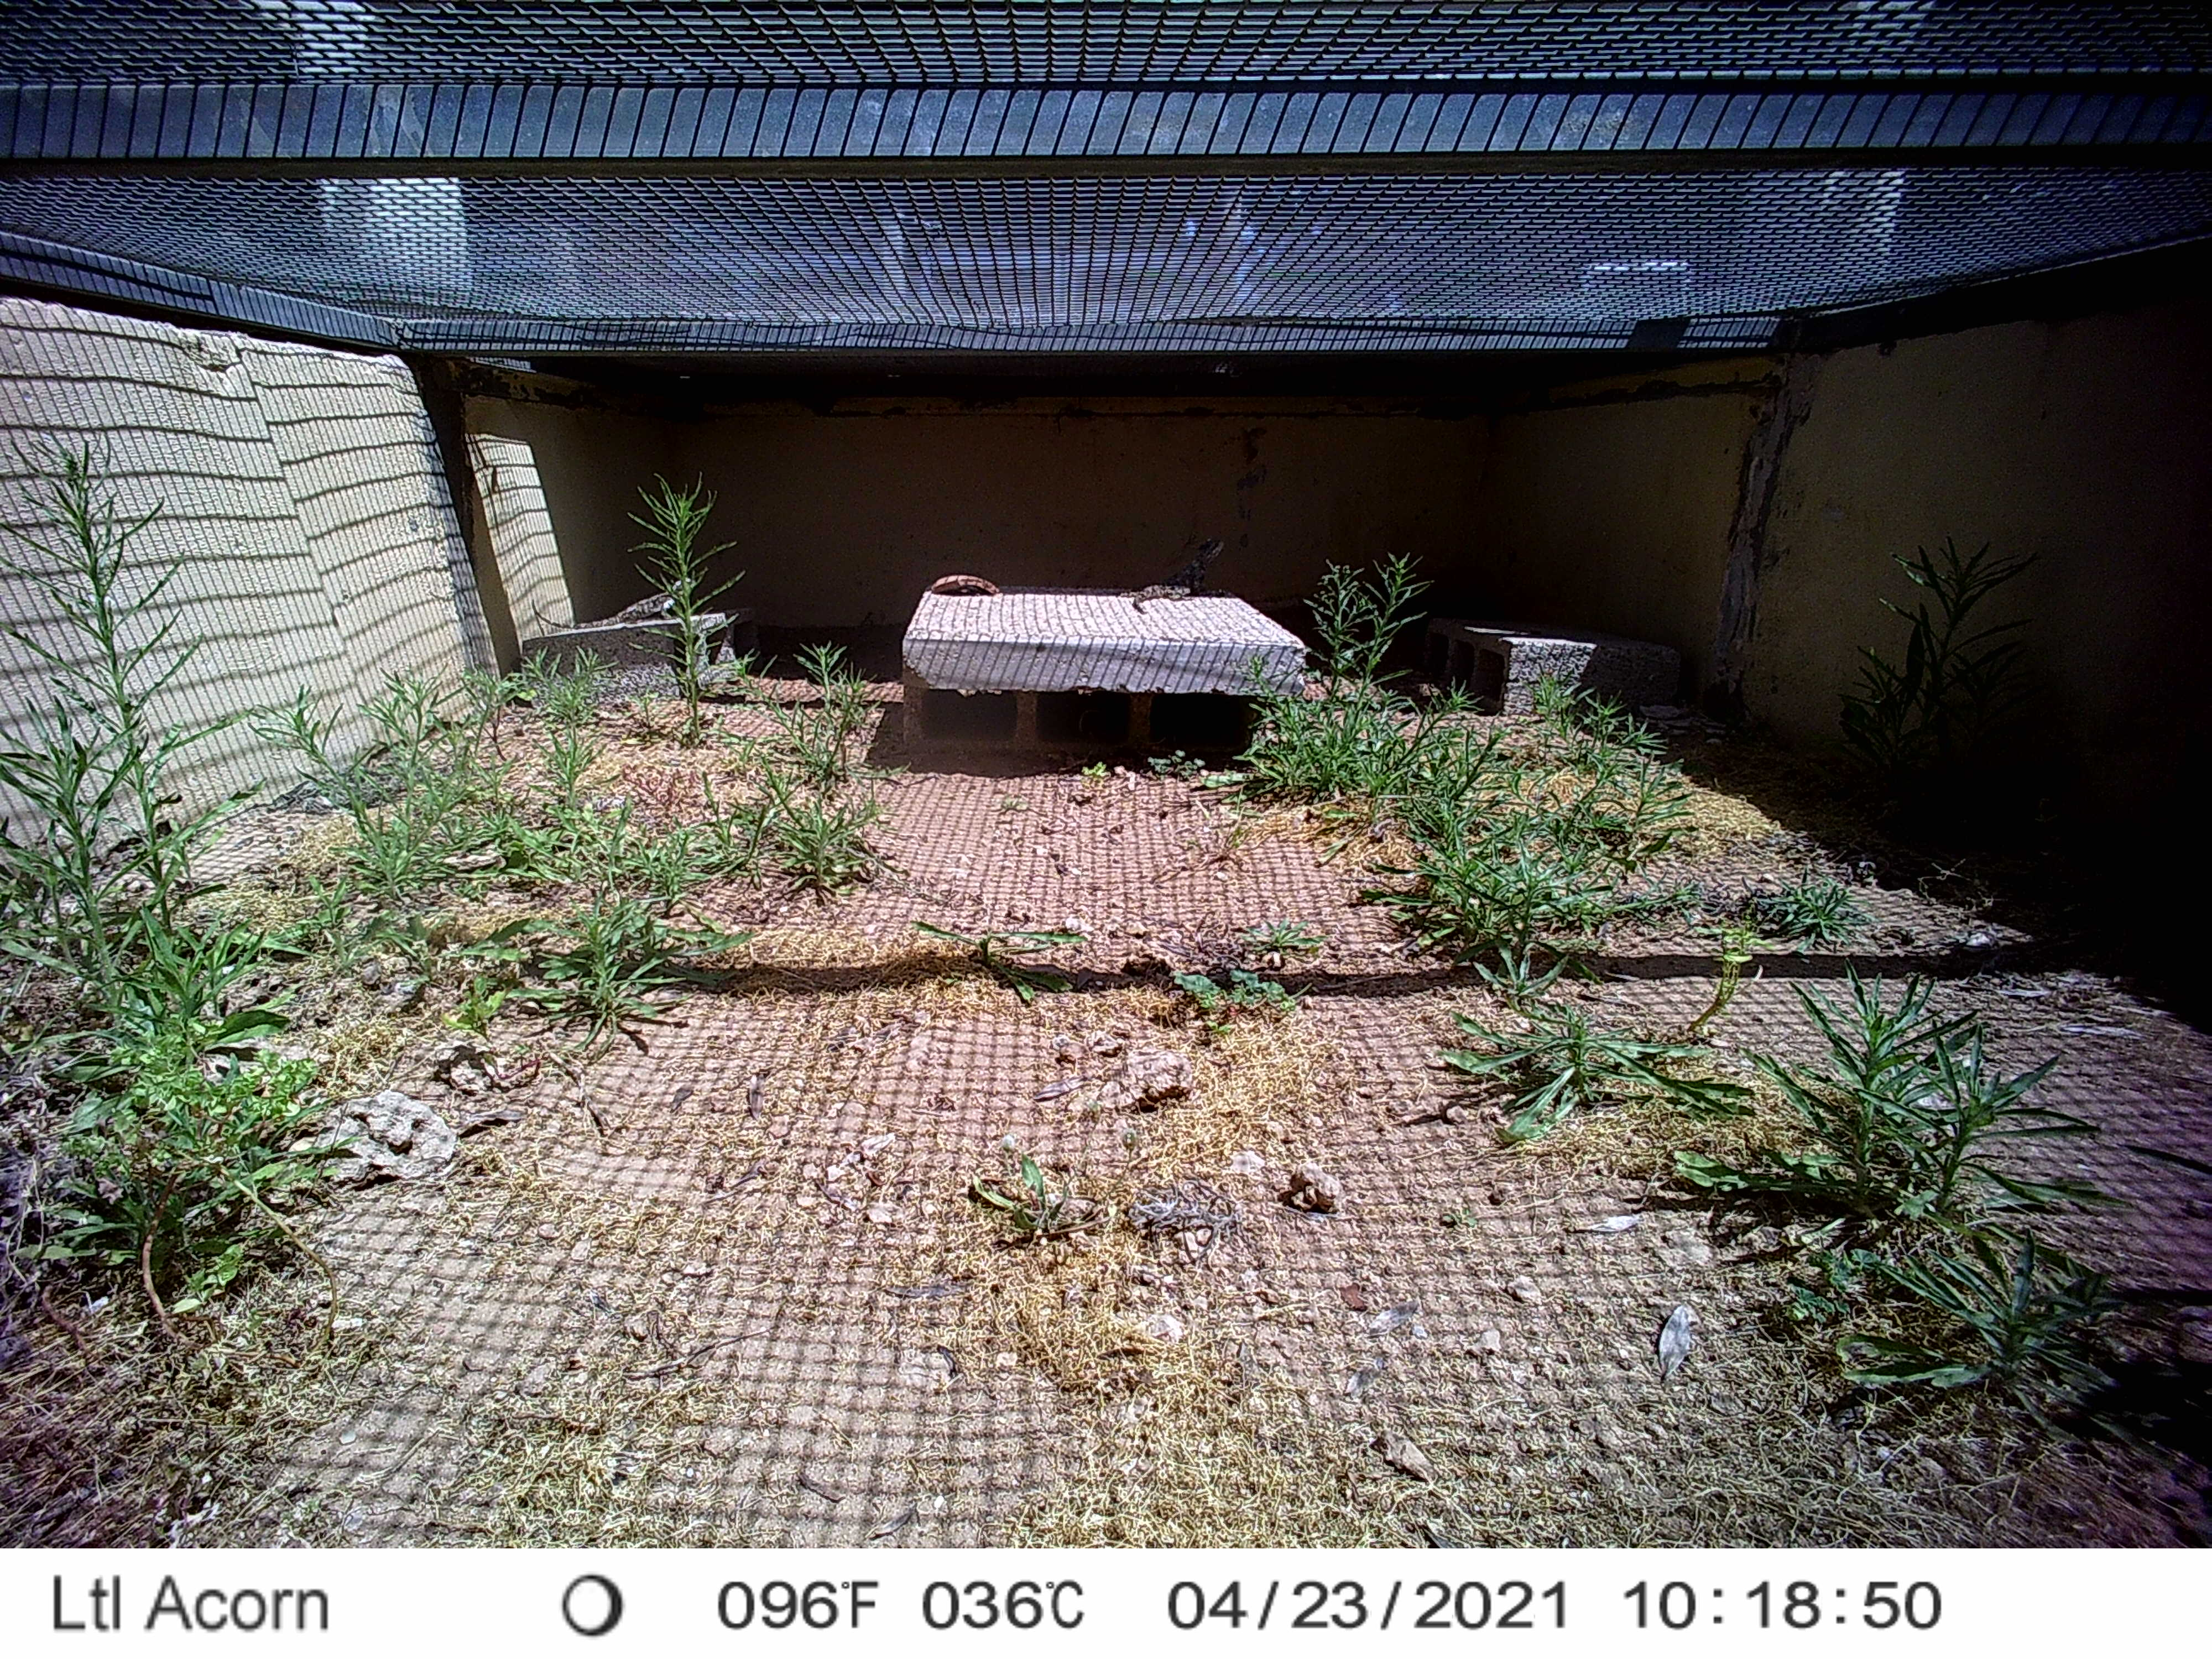lizard: (528, 572, 704, 636), (1106, 532, 1233, 613)
